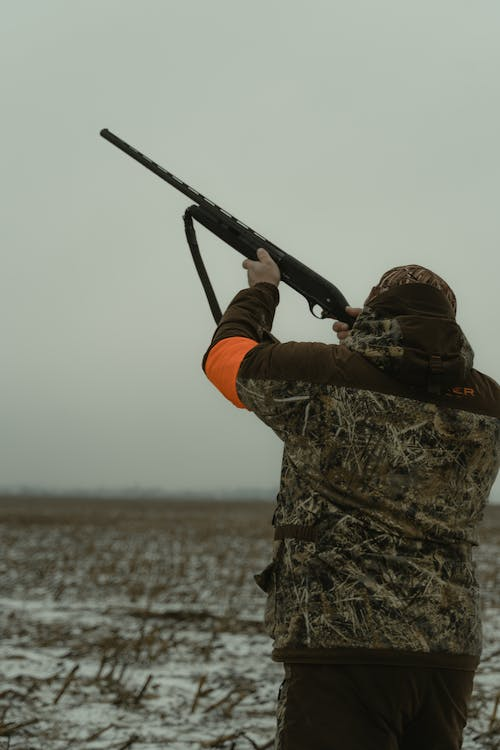gun: (97, 121, 358, 329)
